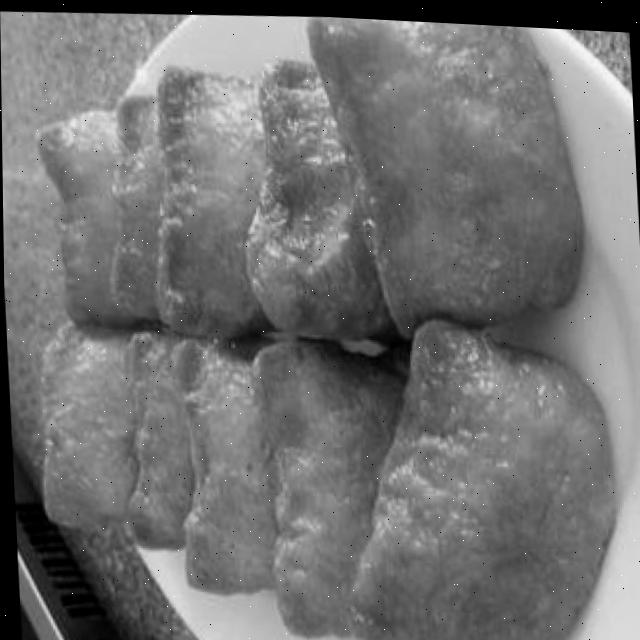寿司卷物: (0, 0, 611, 640)
